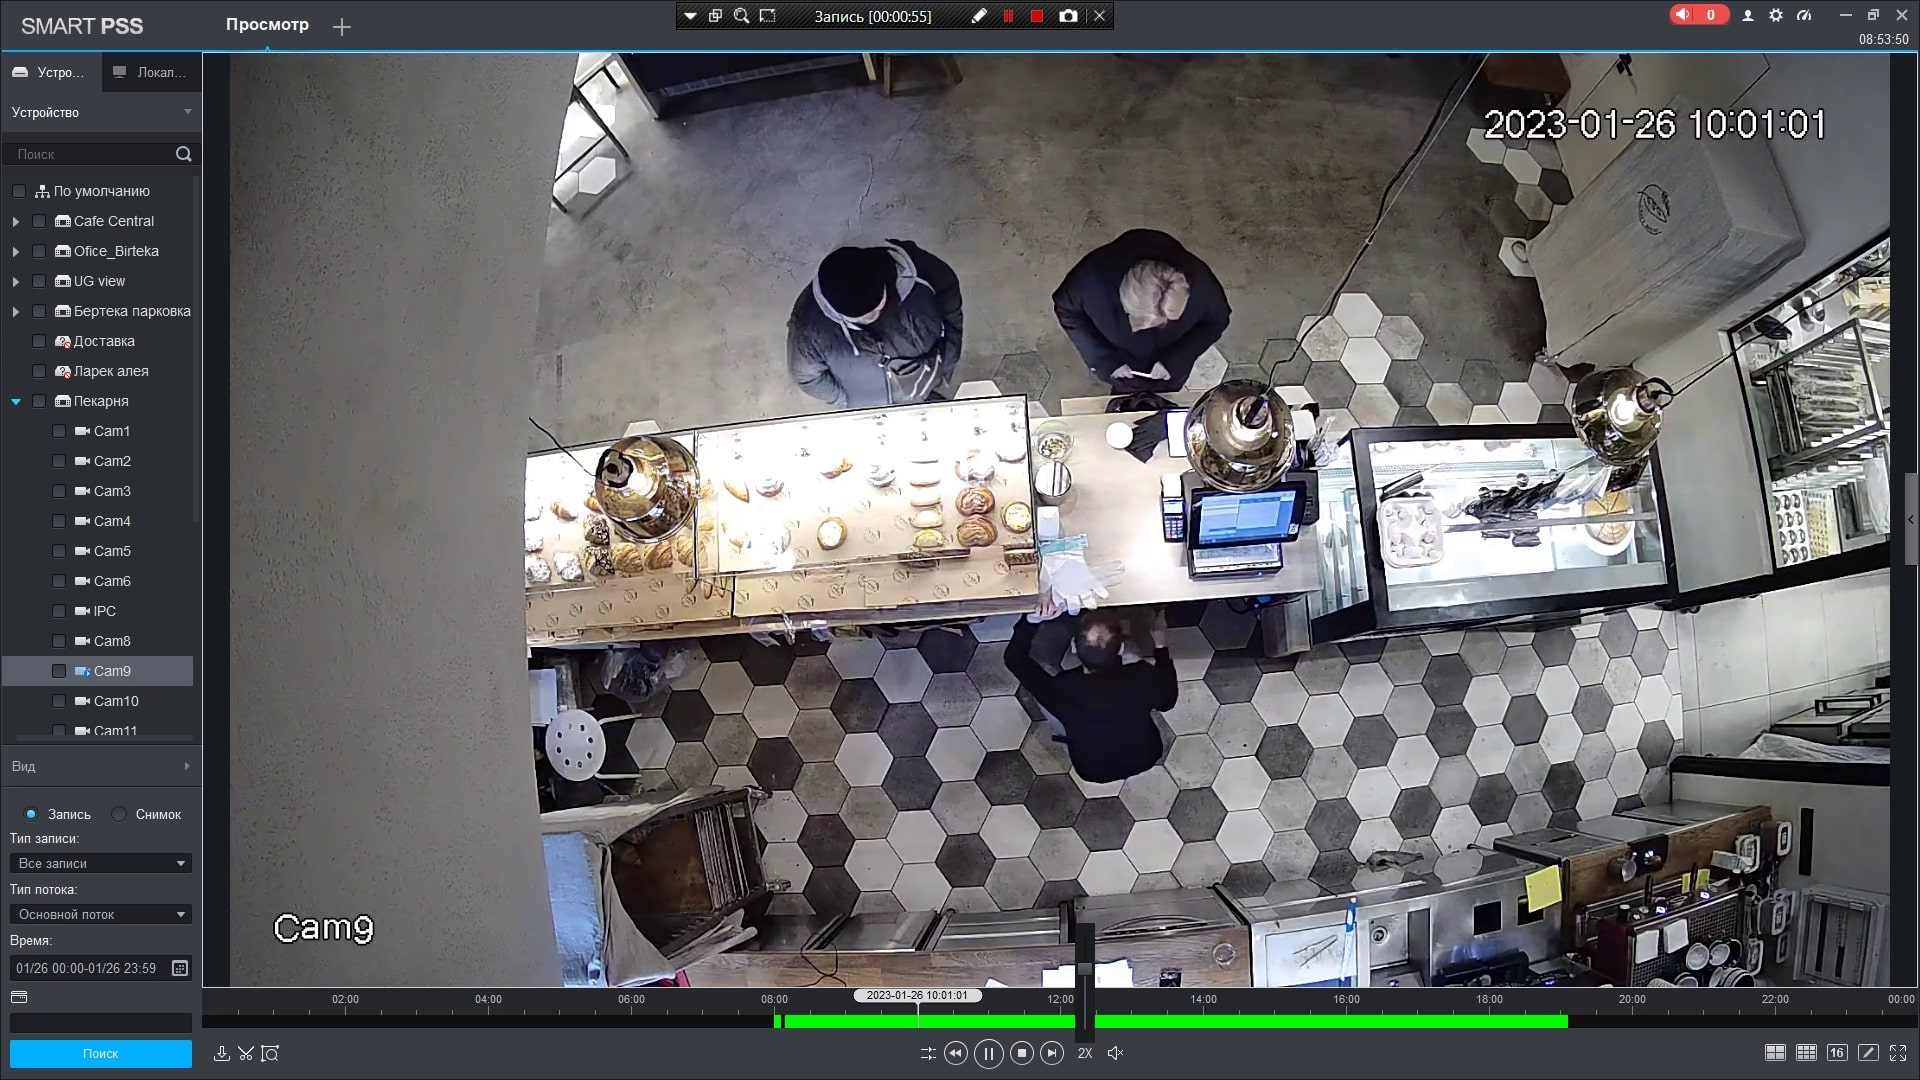barcounter: (484, 410, 1650, 640)
coffee: (1104, 421, 1139, 459)
